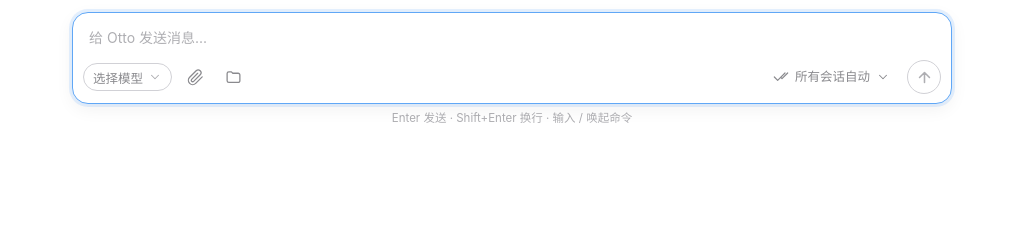
附件预览卡片 › 右键粘贴使用系统剪贴板并插入当前输入位置
Step 1. Right-click the element with class "otto-composer" → (512, 73), box [0,0,1023,146]
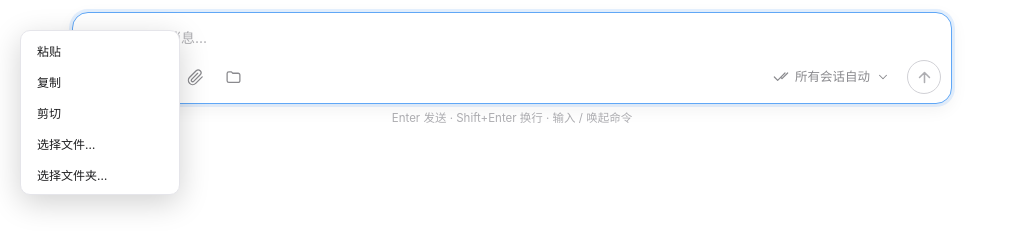
Step 2. Click the button "粘贴" → (100, 50), box [25,35,175,66]
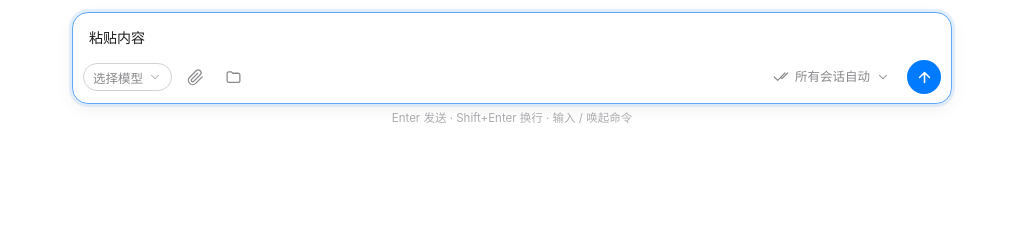
Check: the text box with class "otto-composer__textarea" holds "粘贴内容", box [73,13,951,54]
